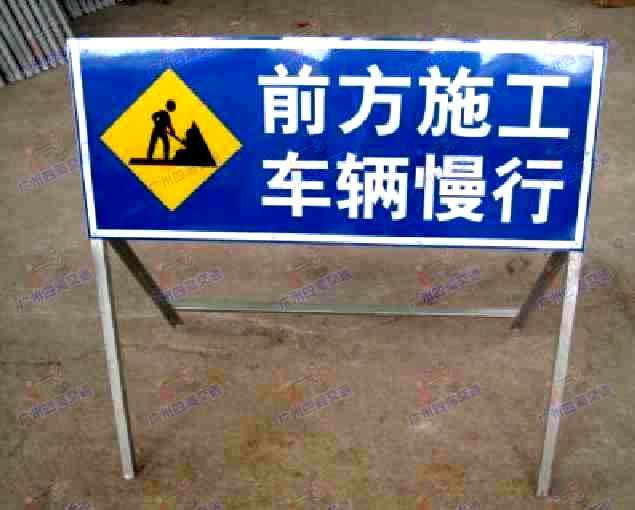sign: (71, 36, 606, 244)
